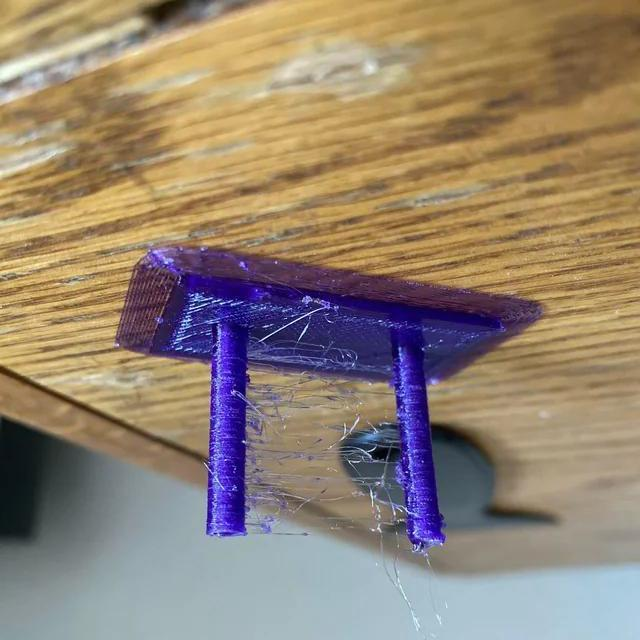Stringing: (240, 390, 308, 536), (338, 418, 402, 520)
